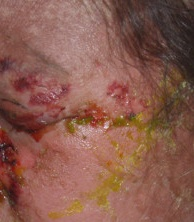SJS-TEN: (0, 48, 183, 219)
